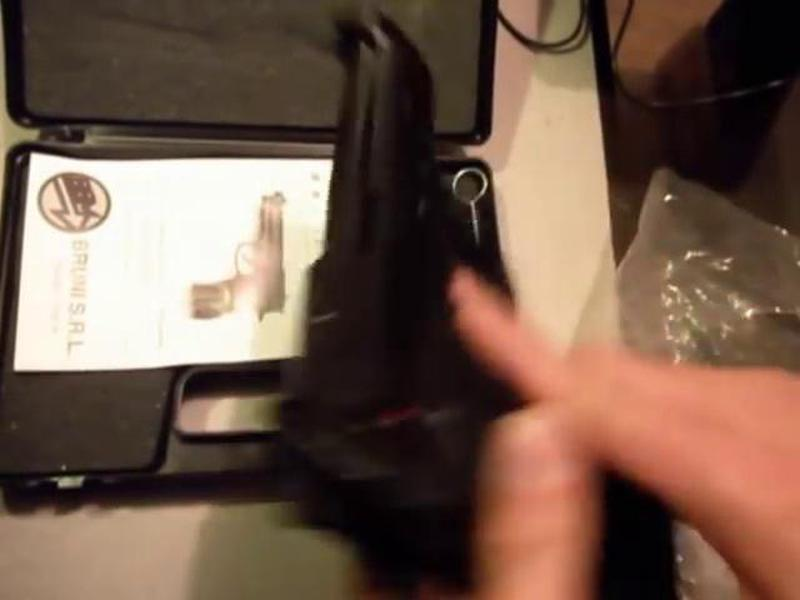Pistola: (263, 4, 670, 578)
